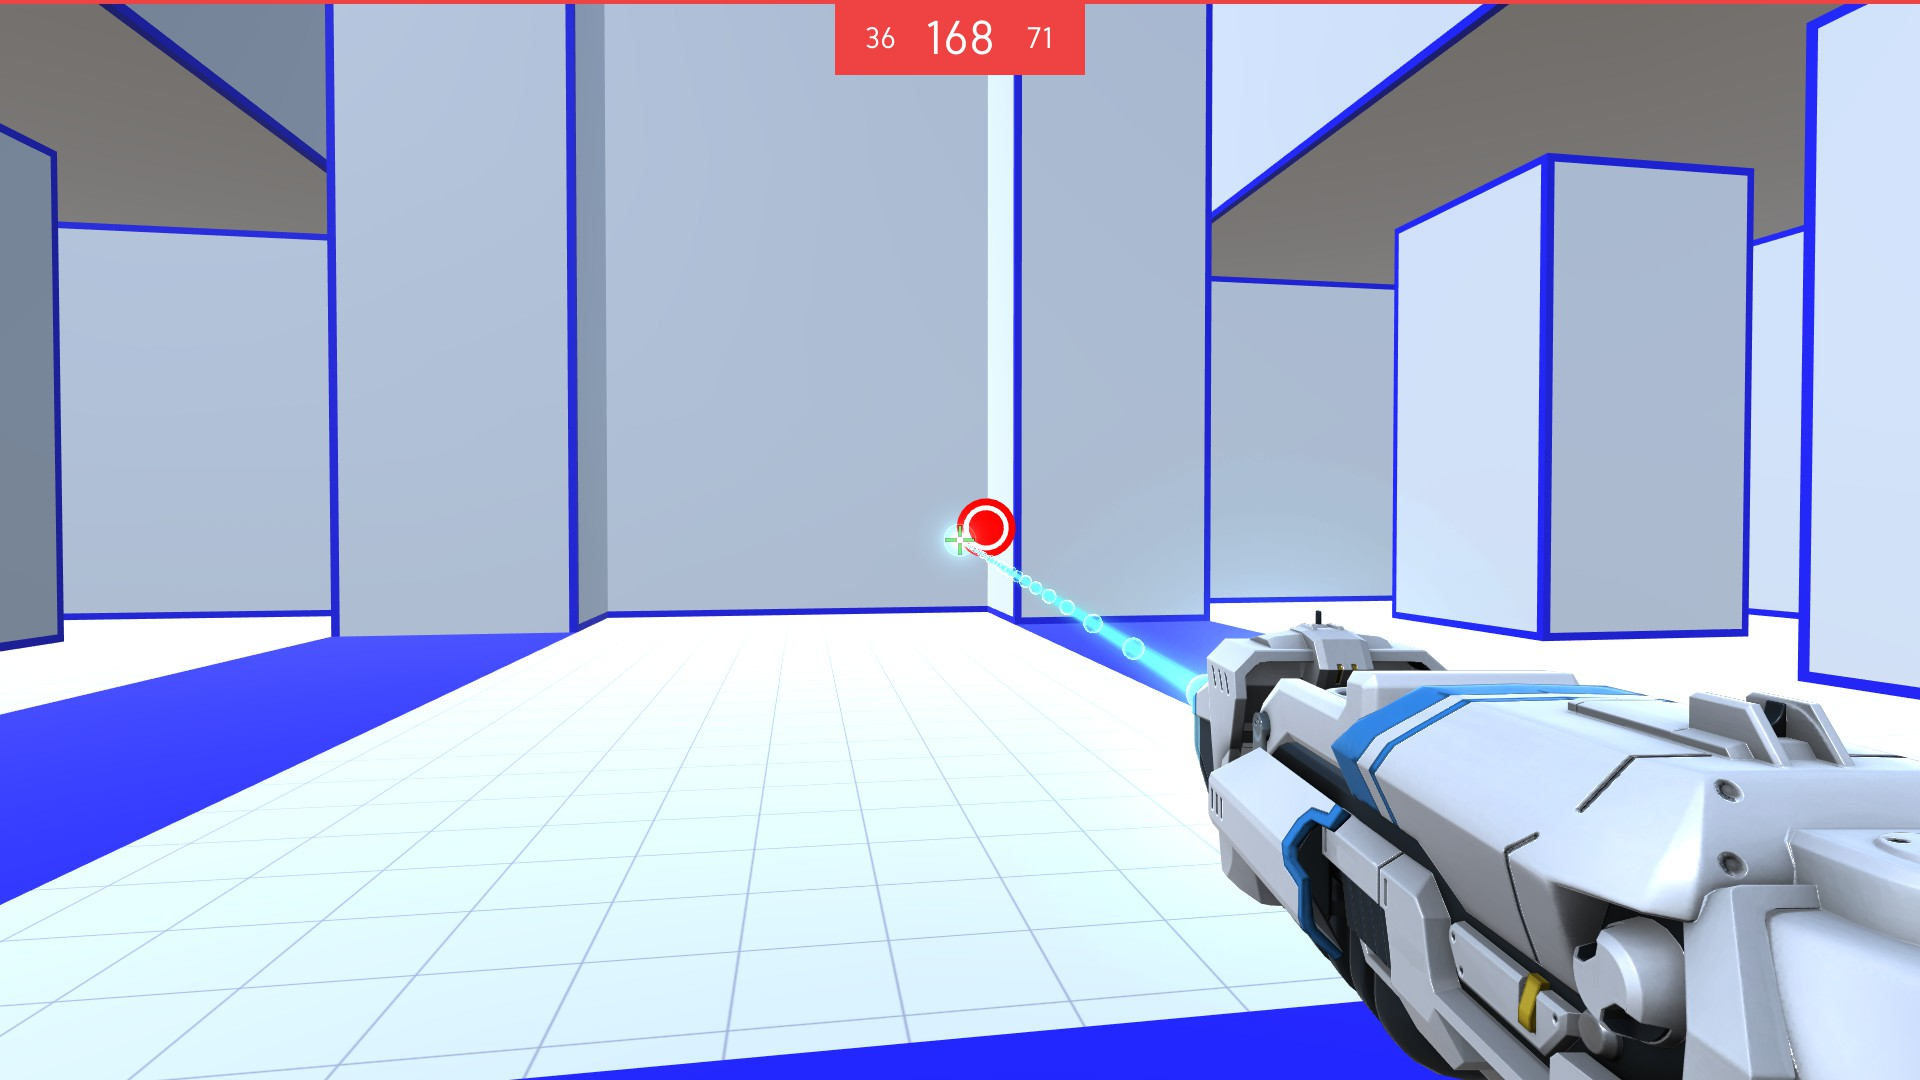target: (952, 501, 1022, 556)
